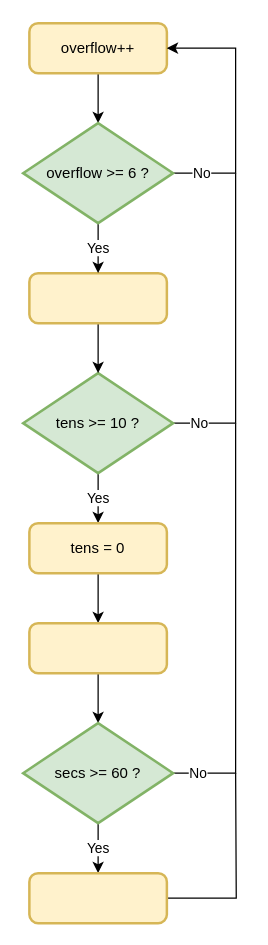
Image size: 268x945. Some labels were removed from this diagram. Here are the shapes that lost their labels. From the top down, the centre of each, then its label:
At (98,297): "tens++".
At (98,647): "secs++".
At (98,897): "secs = 0".
